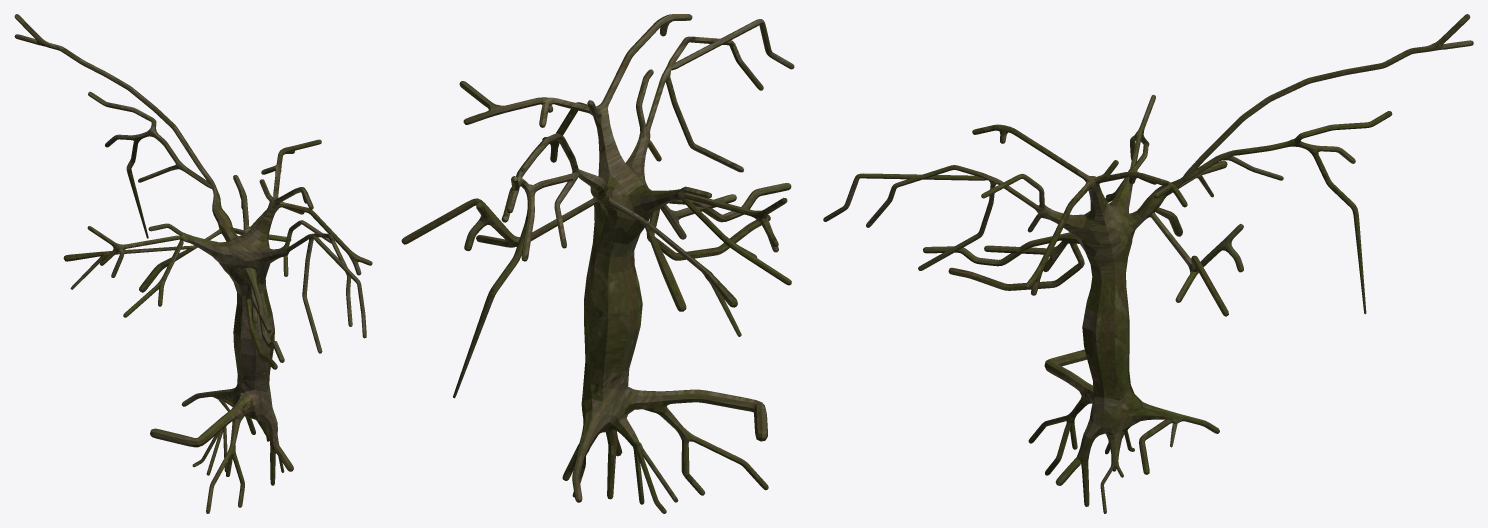
The model's file is NewTree.fbx.
The picture shows the model from 3 angles, left to right: view 1: azimuth 30°, elevation 25°; view 2: azimuth 150°, elevation 25°; view 3: azimuth 270°, elevation 25°; orthographic projection. The views are drawn at different scales.
Parts seen in each view (by area): view 1: Plane; view 2: Plane; view 3: Plane.
Boxes of the visible parts, x1=… form: Plane: x1=14, y1=14, x2=372, y2=513; Plane: x1=401, y1=14, x2=794, y2=513; Plane: x1=823, y1=14, x2=1473, y2=513.
Size of the model in its own units: 924 by 1337 by 1795.
Materials: 1 (1 with a texture image).
